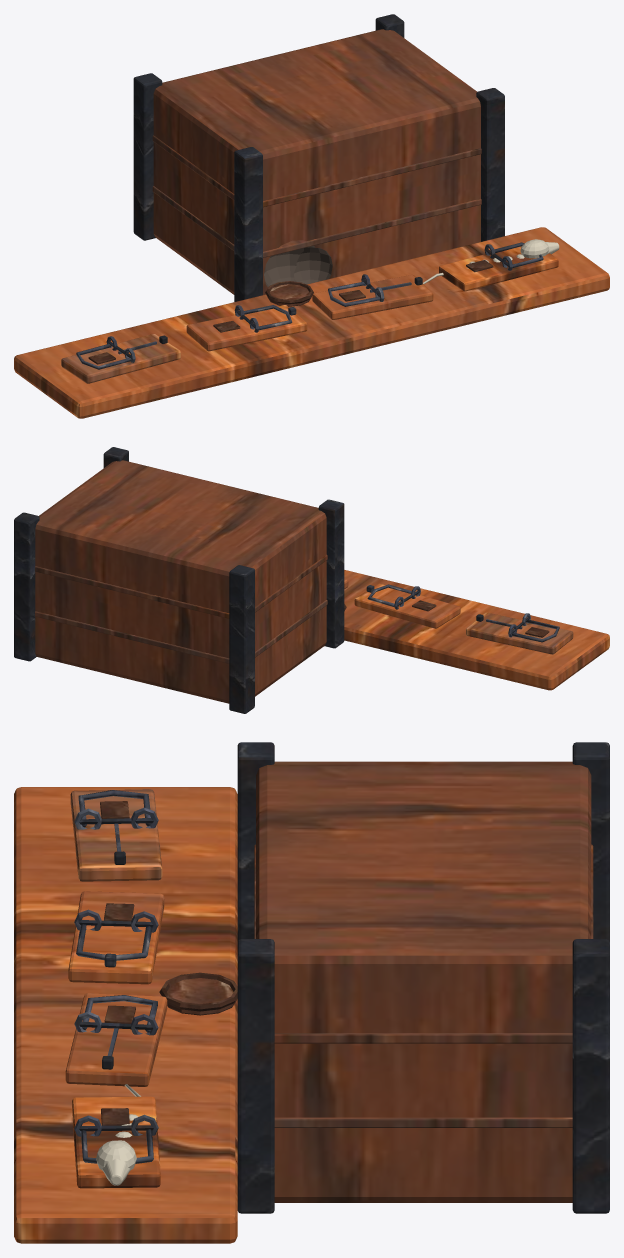
The model's file is op_rat_traps.glb.
3 views of the same model, one above another, from view 1: azimuth 30°, elevation 25°; view 2: azimuth 150°, elevation 25°; view 3: azimuth 270°, elevation 25° (orthographic). The views are drawn at different scales.
Visible parts, largest first — view 1: model; view 2: model; view 3: model.
Part boxes in pixels (left/top/right/bottom): model: left=14, top=14, right=609, bottom=418; model: left=14, top=447, right=609, bottom=713; model: left=14, top=742, right=609, bottom=1243.
Size of the model in its own units: 1.1 by 0.31 by 0.64.
Materials: 13 (11 with a texture image).
